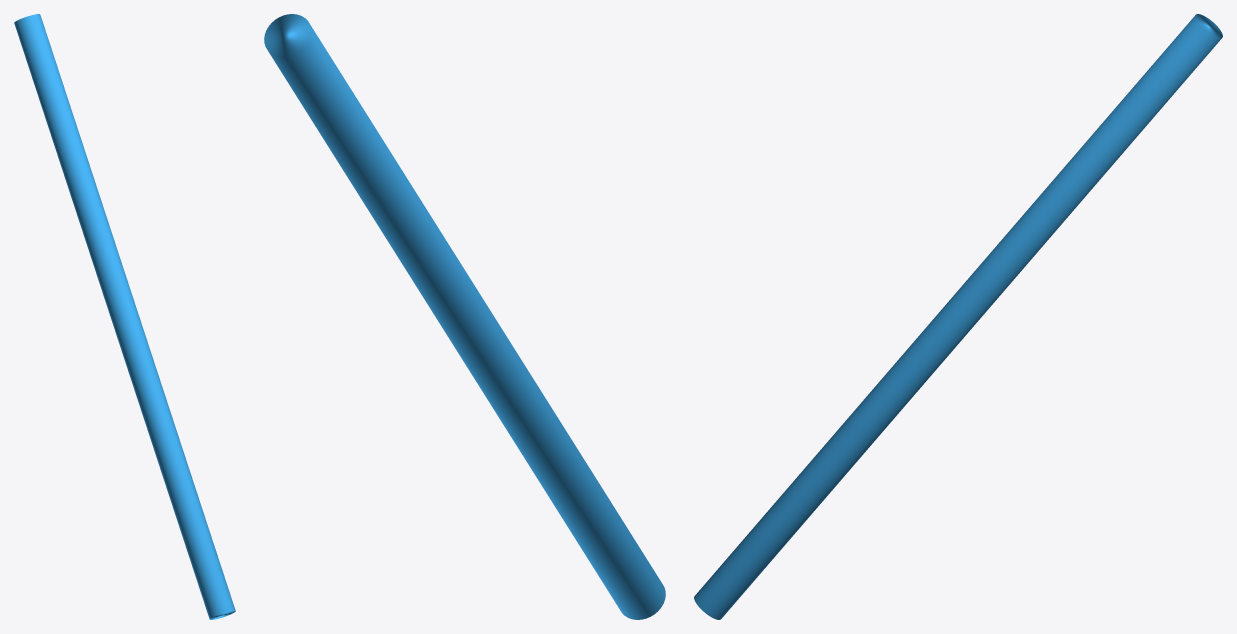
Rendered from HATCH_RollCage_RearStay_L.glb.
The picture shows the model from 3 angles, left to right: view 1: azimuth 30°, elevation 25°; view 2: azimuth 150°, elevation 25°; view 3: azimuth 270°, elevation 25°; orthographic projection. The views are drawn at different scales.
Parts seen in each view (by area): view 1: HATCH_RollCage_RearStay_L; view 2: HATCH_RollCage_RearStay_L; view 3: HATCH_RollCage_RearStay_L.
Part boxes in pixels (box(x1,y1,x2,y2)): HATCH_RollCage_RearStay_L: box(14, 14, 235, 619); HATCH_RollCage_RearStay_L: box(264, 14, 665, 619); HATCH_RollCage_RearStay_L: box(694, 14, 1222, 619).
Bounding box in the file's own units: 0.04 × 0.7496 × 0.5979.
